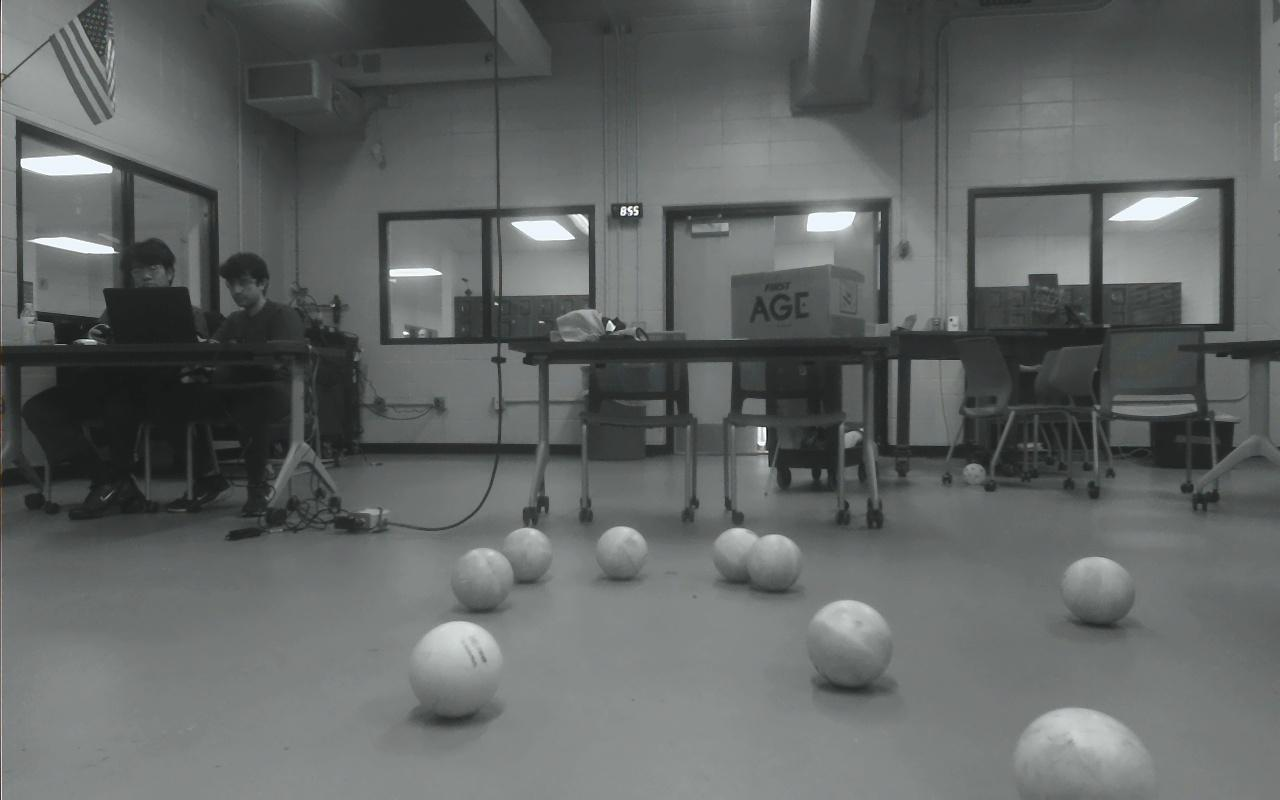Fuel: (1012, 707, 1158, 800), (408, 620, 504, 718), (806, 599, 895, 688), (1061, 555, 1134, 626), (452, 548, 513, 611), (746, 533, 804, 592), (499, 527, 554, 582), (594, 525, 648, 580), (713, 527, 764, 583)
